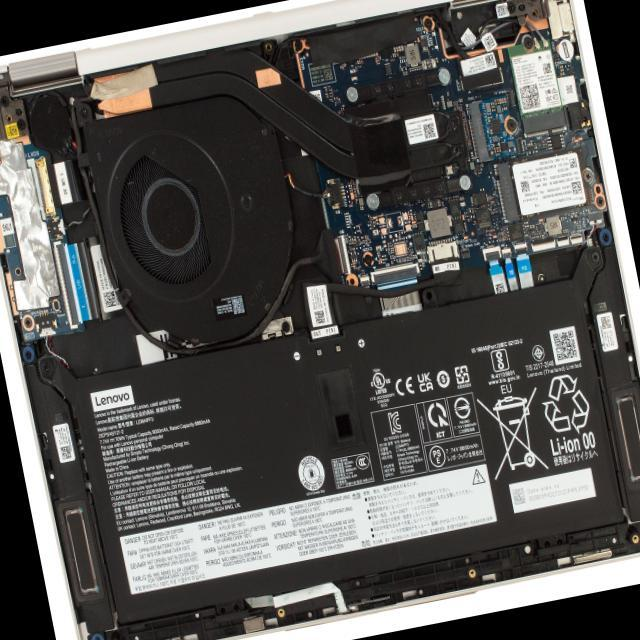Battery: (495, 146, 598, 222)
RAM: (84, 289, 610, 606)
SSD: (22, 316, 34, 330), (506, 118, 518, 132), (42, 361, 52, 375), (590, 251, 600, 265), (508, 2, 516, 14), (424, 18, 432, 28), (597, 196, 604, 206)
